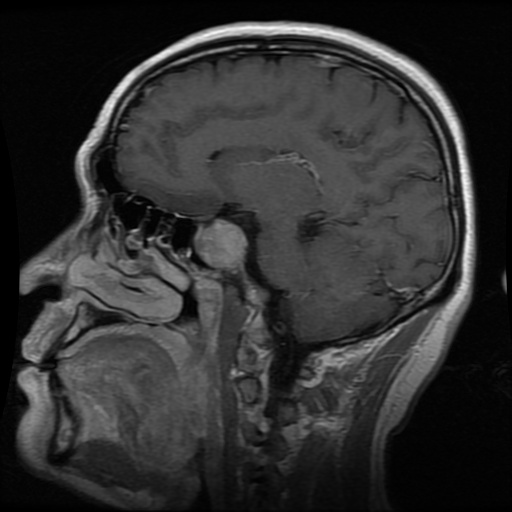pituitary: (196, 222, 244, 265)
